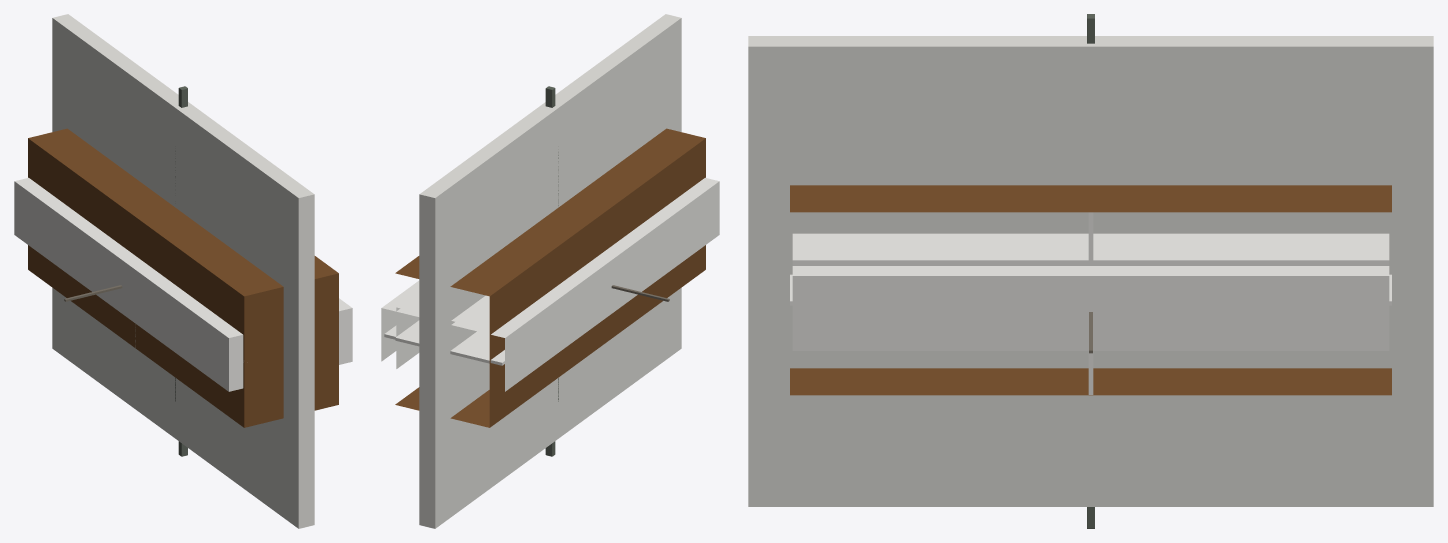
The model's file is room-6-512c5baf3eac.glb.
3 renders of one model, left to right at view 1: azimuth 30°, elevation 25°; view 2: azimuth 150°, elevation 25°; view 3: azimuth 270°, elevation 25°, orthographic. The views are drawn at different scales.
Visible parts, largest first — view 1: 门外边界_非公区实测, 入户侧高柜, 连通口右侧柜; view 2: 门外边界_非公区实测, 入户侧高柜, 连通口右侧柜, 连通口左侧柜, 连通口左侧柜门板1; view 3: 门外边界_非公区实测, 连通口右侧柜, 入户侧高柜, 连通口左侧柜.
Part boxes in pixels (x1,y1,x2,y2): 门外边界_非公区实测: (52,14,314,528); 入户侧高柜: (28,128,338,427); 连通口右侧柜: (14,177,352,391); 门外边界_非公区实测: (419,14,681,528); 入户侧高柜: (395,128,705,427); 连通口右侧柜: (381,177,719,391); 连通口左侧柜: (396,291,489,368); 连通口左侧柜门板1: (397,321,489,359); 门外边界_非公区实测: (748,36,1433,506); 连通口右侧柜: (792,266,1389,350); 入户侧高柜: (790,185,1391,395); 连通口左侧柜: (792,233,1389,265).
Bounding box in the file's own units: 1.5 × 2.22 × 2.7.
